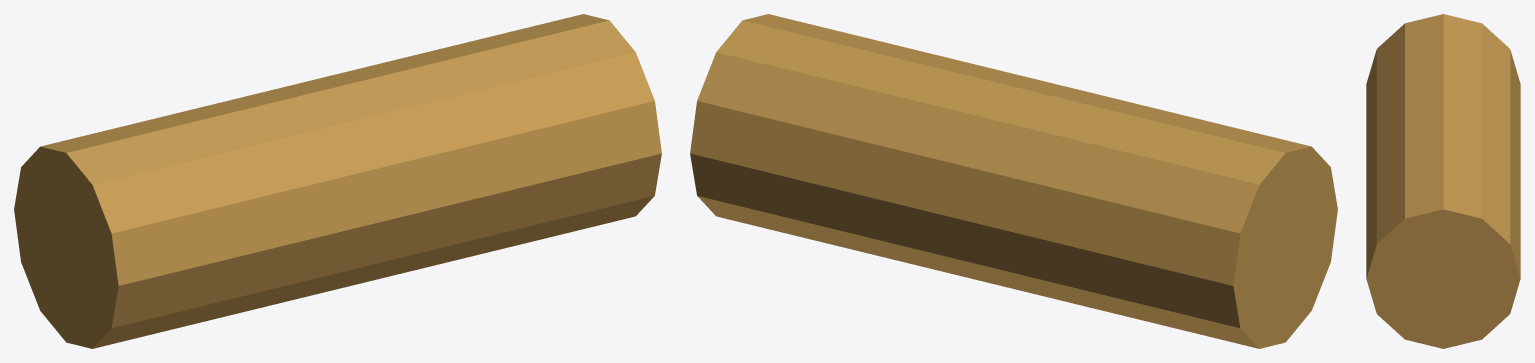
Rendered from shell.gltf.
The picture shows the model from 3 angles, left to right: view 1: azimuth 30°, elevation 25°; view 2: azimuth 150°, elevation 25°; view 3: azimuth 270°, elevation 25°; orthographic projection. The views are drawn at different scales.
Visible parts, largest first — view 1: brass; view 2: brass; view 3: brass.
Boxes of the visible parts, x1=… form: brass: x1=14, y1=14, x2=661, y2=348; brass: x1=690, y1=14, x2=1337, y2=348; brass: x1=1366, y1=14, x2=1520, y2=348.
Size of the model in its own units: 6 by 2 by 2.
